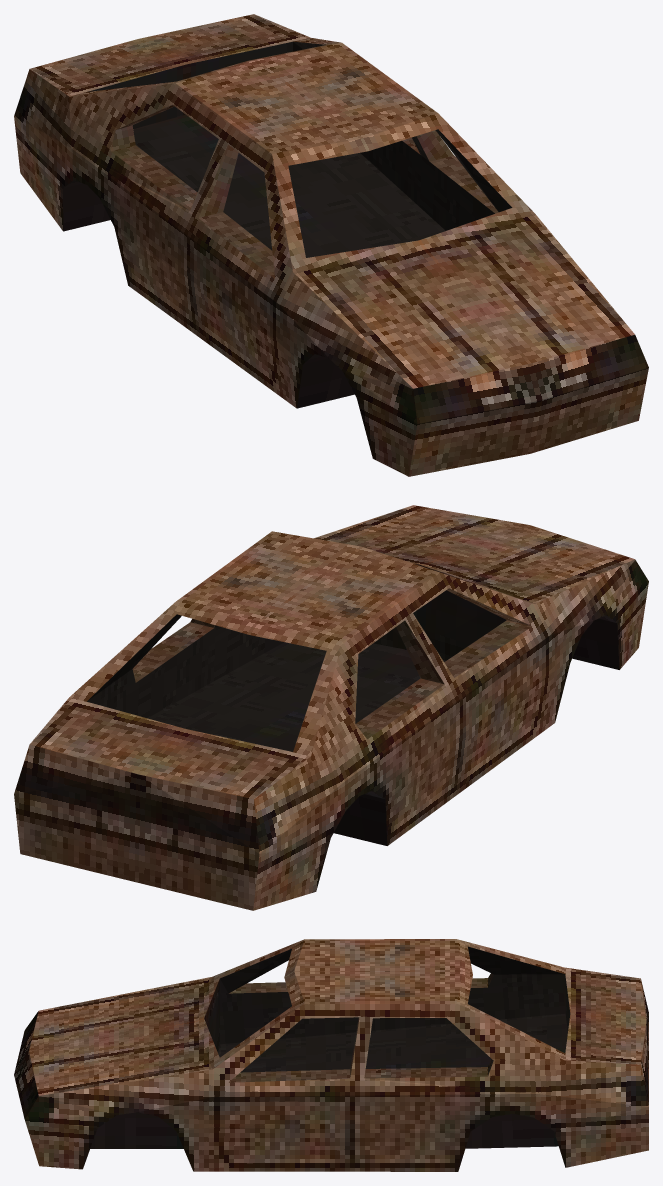
Rendered from car6.lod.glb.
The picture shows the model from 3 angles, top to bottom: view 1: azimuth 30°, elevation 25°; view 2: azimuth 150°, elevation 25°; view 3: azimuth 270°, elevation 25°; orthographic projection. The views are drawn at different scales.
Visible parts, largest first — view 1: Car6; view 2: Car6; view 3: Car6.
Boxes of the visible parts, x1,y1,x2,y2 form: Car6: (14,14,648,476); Car6: (14,505,648,910); Car6: (14,939,648,1171).
Bounding box in the file's own units: 2.48 × 1.67 × 6.36.
Materials: 1 (1 with a texture image).
